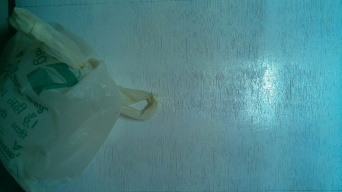f: (2, 19, 160, 192)
